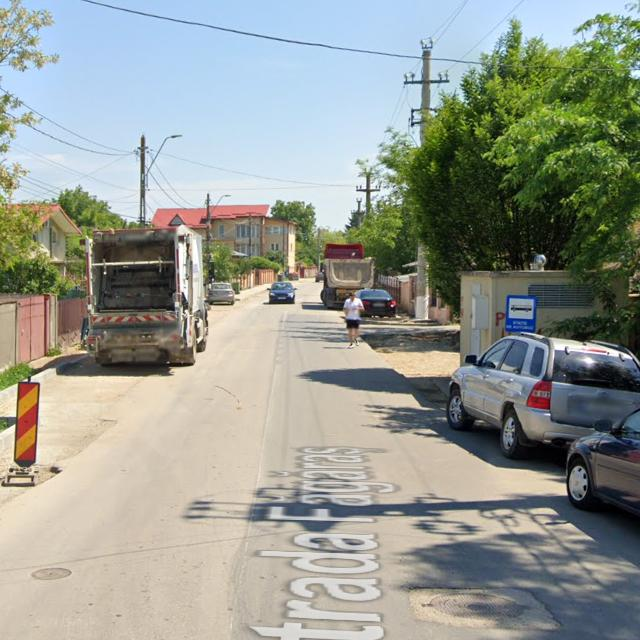info_bus_station: (506, 295, 538, 334)
